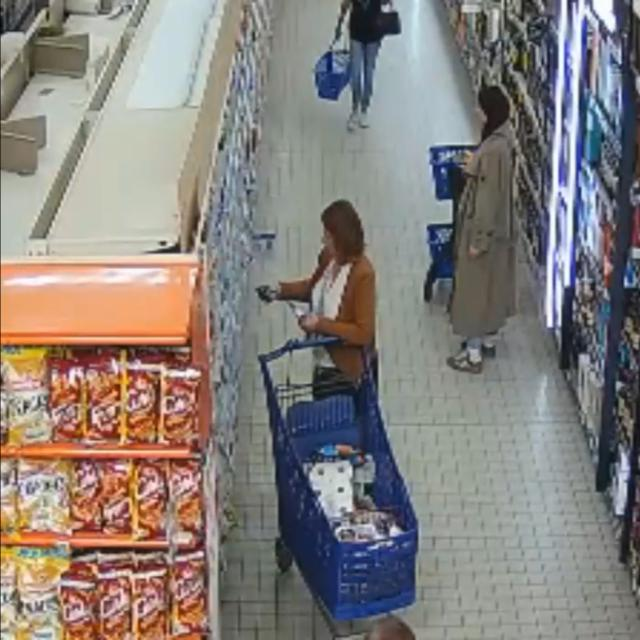article: (256, 284, 277, 304)
bags: (378, 11, 401, 39)
hands: (299, 314, 319, 333), (469, 246, 481, 258)
person: (448, 86, 516, 373), (278, 200, 376, 399), (337, 0, 390, 130)
